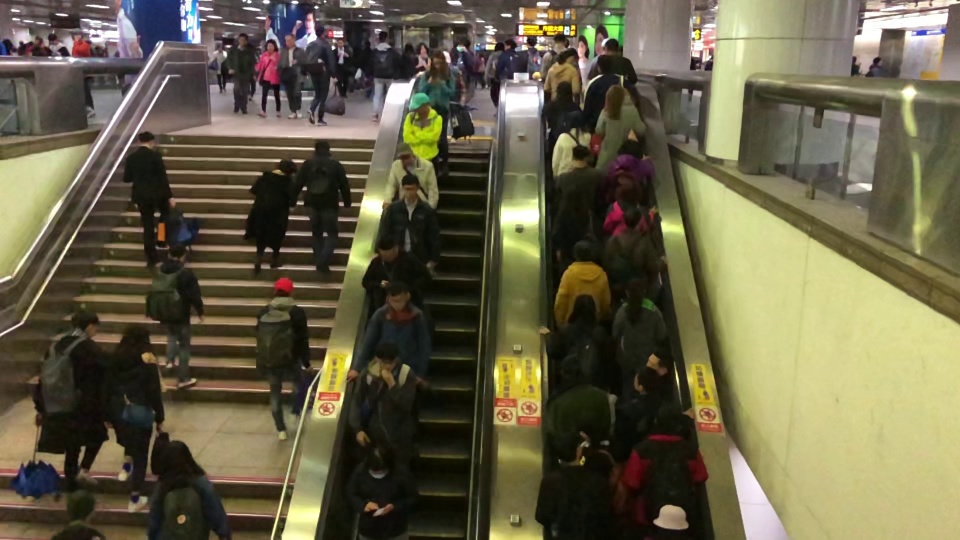person_head: (66, 488, 98, 527), (551, 429, 582, 469), (159, 439, 192, 475), (362, 445, 393, 479), (566, 293, 598, 324), (120, 325, 151, 356), (652, 404, 683, 434), (71, 308, 101, 337), (646, 348, 673, 379), (374, 339, 400, 371), (603, 84, 626, 120), (386, 280, 412, 311), (578, 415, 609, 441), (633, 365, 660, 394), (559, 353, 584, 383), (613, 181, 642, 205), (377, 233, 400, 261), (617, 139, 645, 161), (400, 172, 420, 200), (408, 92, 430, 117), (394, 140, 416, 165), (571, 241, 596, 263), (625, 274, 647, 298), (571, 144, 590, 171), (622, 206, 642, 230), (561, 186, 583, 206), (554, 47, 578, 65), (167, 243, 187, 263), (273, 277, 294, 296), (596, 52, 615, 73), (555, 80, 573, 101), (430, 48, 446, 71), (278, 159, 298, 177), (137, 130, 155, 149), (565, 110, 583, 129), (604, 37, 619, 57), (315, 140, 330, 158), (264, 38, 279, 52), (416, 41, 429, 57), (70, 27, 84, 41), (284, 33, 297, 48), (238, 31, 250, 47), (552, 31, 565, 45), (376, 30, 388, 45), (601, 37, 612, 53), (47, 32, 59, 46), (504, 37, 518, 49), (315, 24, 326, 38), (526, 35, 537, 48), (493, 40, 505, 51), (455, 39, 465, 52), (872, 55, 883, 65), (337, 37, 345, 49), (216, 44, 224, 53), (851, 54, 858, 64)
person_vbox: (32, 310, 159, 493), (101, 326, 165, 512), (620, 406, 709, 529), (255, 276, 315, 442), (346, 341, 419, 470), (347, 280, 432, 388), (533, 432, 616, 540), (146, 439, 232, 540), (146, 246, 205, 390), (538, 293, 617, 393), (383, 141, 440, 276), (295, 139, 352, 272), (615, 366, 695, 460), (367, 173, 439, 277), (342, 442, 417, 540), (542, 352, 612, 456), (124, 130, 177, 265), (360, 235, 433, 330), (602, 205, 667, 304), (241, 159, 297, 273), (609, 277, 669, 381), (550, 143, 608, 250), (575, 414, 628, 519), (554, 239, 612, 328), (595, 84, 648, 173), (581, 54, 638, 134), (418, 50, 451, 175), (599, 139, 655, 212), (300, 25, 339, 126), (549, 187, 598, 261), (599, 180, 659, 239), (402, 92, 443, 176), (552, 111, 592, 184), (276, 31, 306, 119), (368, 30, 397, 121), (69, 26, 97, 118), (224, 31, 255, 113), (539, 33, 582, 91), (542, 82, 582, 143), (254, 38, 284, 117), (543, 47, 582, 102), (596, 38, 638, 85), (482, 40, 505, 117), (511, 34, 545, 81), (449, 38, 477, 90), (494, 38, 521, 83), (207, 42, 230, 94), (332, 37, 351, 99), (586, 37, 612, 82), (410, 42, 432, 76), (46, 32, 71, 58), (864, 53, 885, 77), (848, 51, 862, 76)
